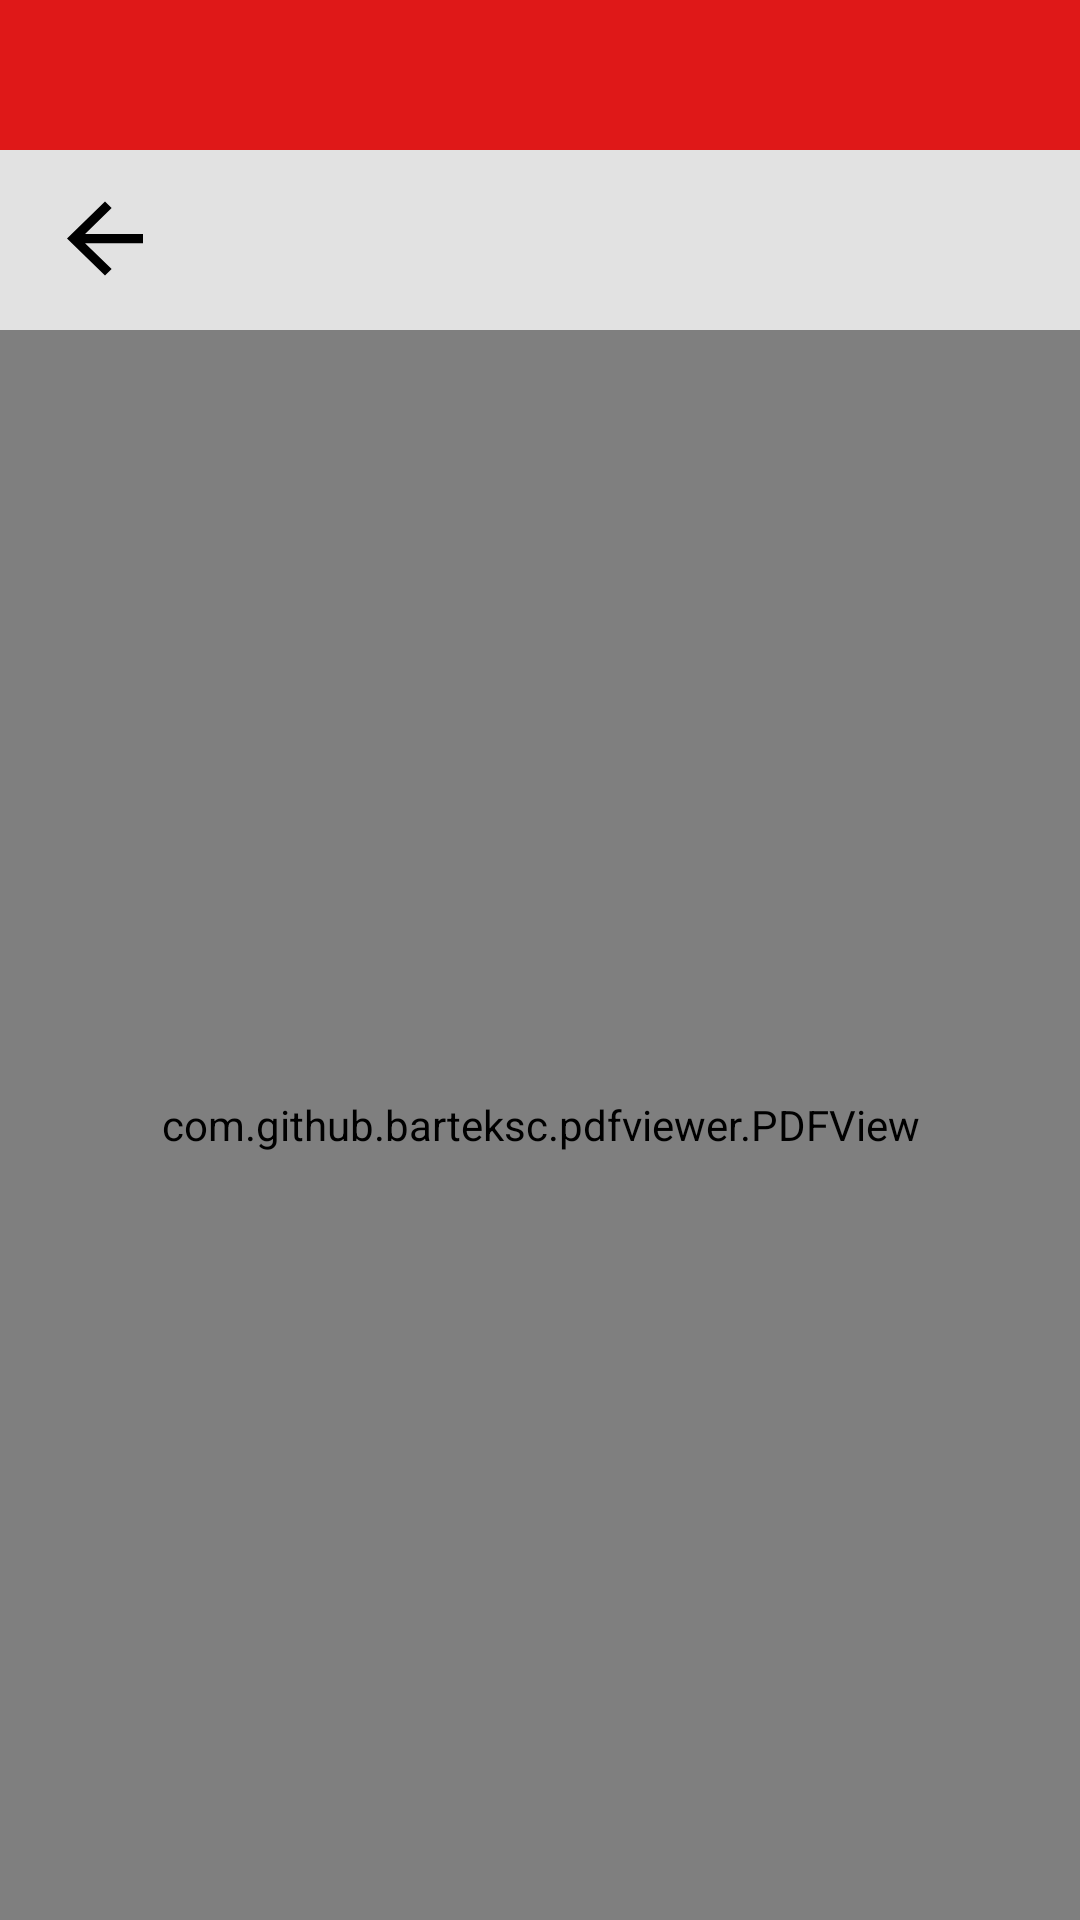

Screen size 1080x1920. Icon name, then its box in pixels as (x1,y1,x2,y2):
back to reports: (67,201,143,276)
